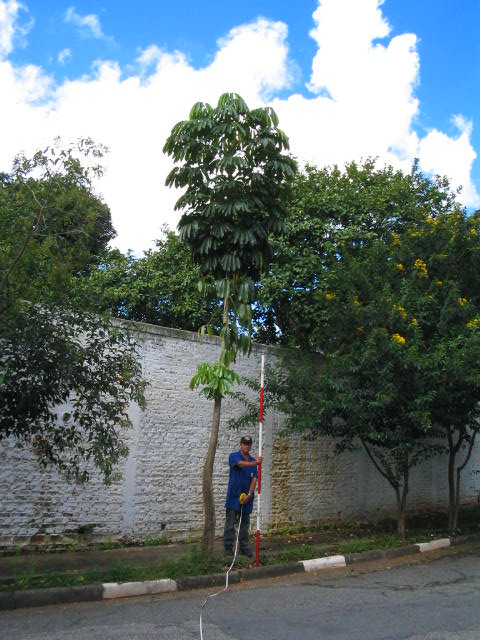crown: (282, 219, 476, 468), (161, 91, 295, 280)
stem: (186, 398, 228, 560)
stick: (252, 353, 271, 567)
tree: (158, 90, 297, 562), (278, 217, 476, 538)
